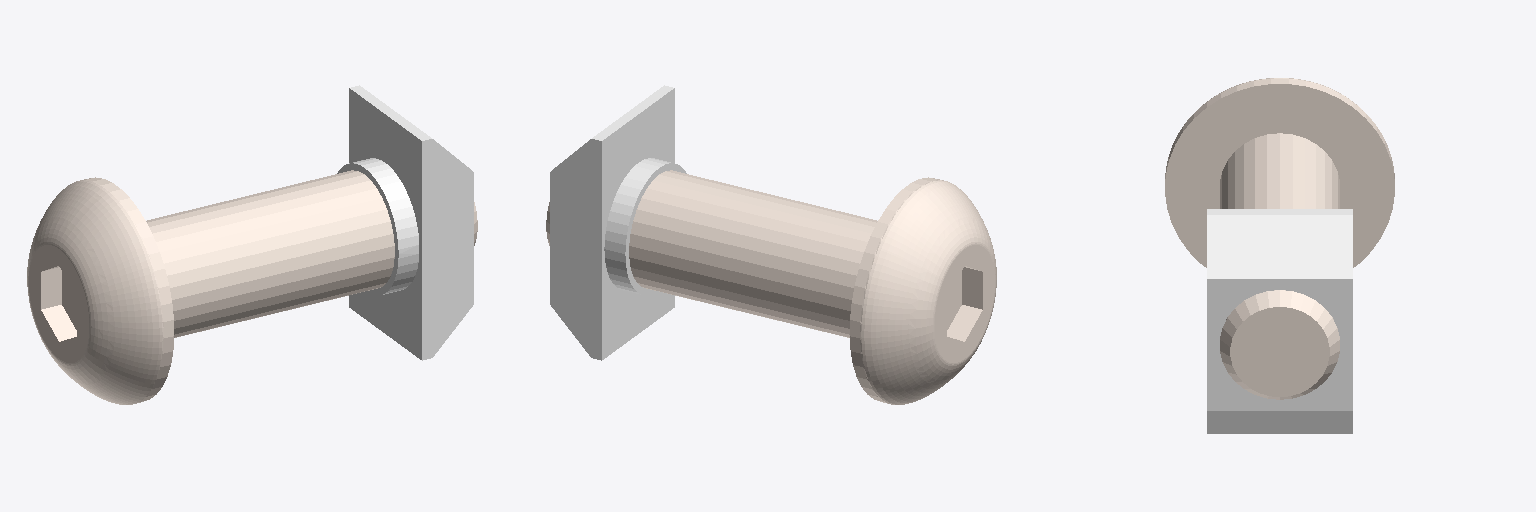
The model's file is m5ScrewwithTeeNut.obj.
The picture shows the model from 3 angles: view 1: azimuth 30°, elevation 25°; view 2: azimuth 150°, elevation 25°; view 3: azimuth 270°, elevation 25°; orthographic projection.
Parts seen in each view (by area): view 1: Root|M5_Screw_with_Tee_Nut_(16mm)|16mm|satin_finish_stainless_st, Root|M5_Screw_with_Tee_Nut_(16mm)|16mm|polished_steel; view 2: Root|M5_Screw_with_Tee_Nut_(16mm)|16mm|satin_finish_stainless_st, Root|M5_Screw_with_Tee_Nut_(16mm)|16mm|polished_steel; view 3: Root|M5_Screw_with_Tee_Nut_(16mm)|16mm|satin_finish_stainless_st, Root|M5_Screw_with_Tee_Nut_(16mm)|16mm|polished_steel.
Part boxes in pixels (x1,y1,x2,y2): Root|M5_Screw_with_Tee_Nut_(16mm)|16mm|satin_finish_stainless_st: (27,170,477,404); Root|M5_Screw_with_Tee_Nut_(16mm)|16mm|polished_steel: (337,85,473,360); Root|M5_Screw_with_Tee_Nut_(16mm)|16mm|satin_finish_stainless_st: (546,170,996,404); Root|M5_Screw_with_Tee_Nut_(16mm)|16mm|polished_steel: (550,85,686,360); Root|M5_Screw_with_Tee_Nut_(16mm)|16mm|satin_finish_stainless_st: (1165,78,1394,399); Root|M5_Screw_with_Tee_Nut_(16mm)|16mm|polished_steel: (1207,209,1352,433).
Size of the model in its own units: 0.0187 by 0.01 by 0.0095.